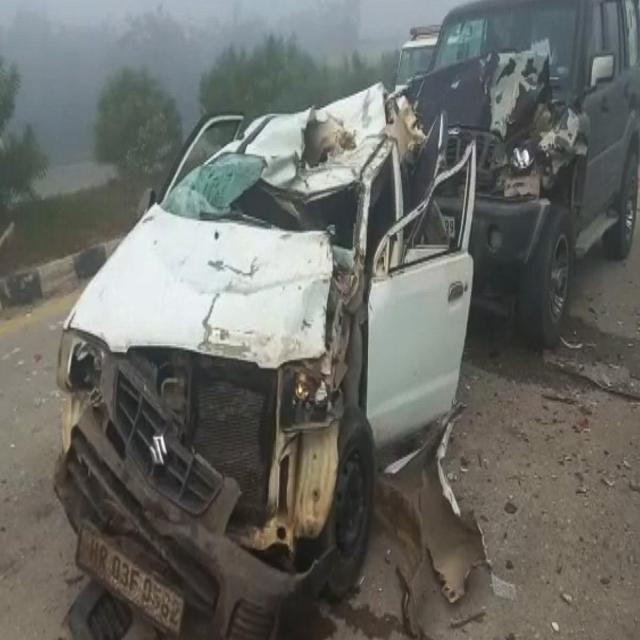accident: (55, 84, 476, 638), (416, 0, 640, 347)
